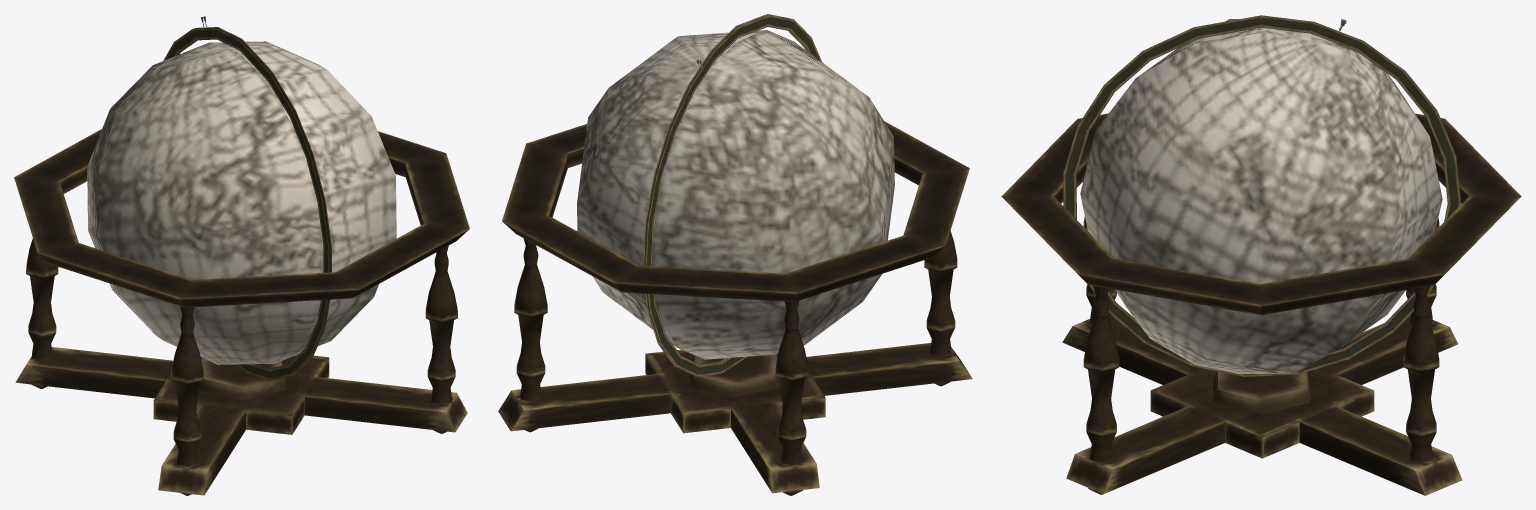
Rendered from Big Globe_FBX.fbx.
3 renders of one model, left to right at view 1: azimuth 30°, elevation 25°; view 2: azimuth 150°, elevation 25°; view 3: azimuth 270°, elevation 25°, orthographic. The views are drawn at different scales.
Parts seen in each view (by area): view 1: Big Globe; view 2: Big Globe; view 3: Big Globe.
Part boxes in pixels (<box>): Big Globe: <box>14,16,469,495</box>; Big Globe: <box>498,14,972,495</box>; Big Globe: <box>1001,15,1521,495</box>.
Bounding box in the file's own units: 1.19 × 1.04 × 1.19.
2 materials, 2 textured.
